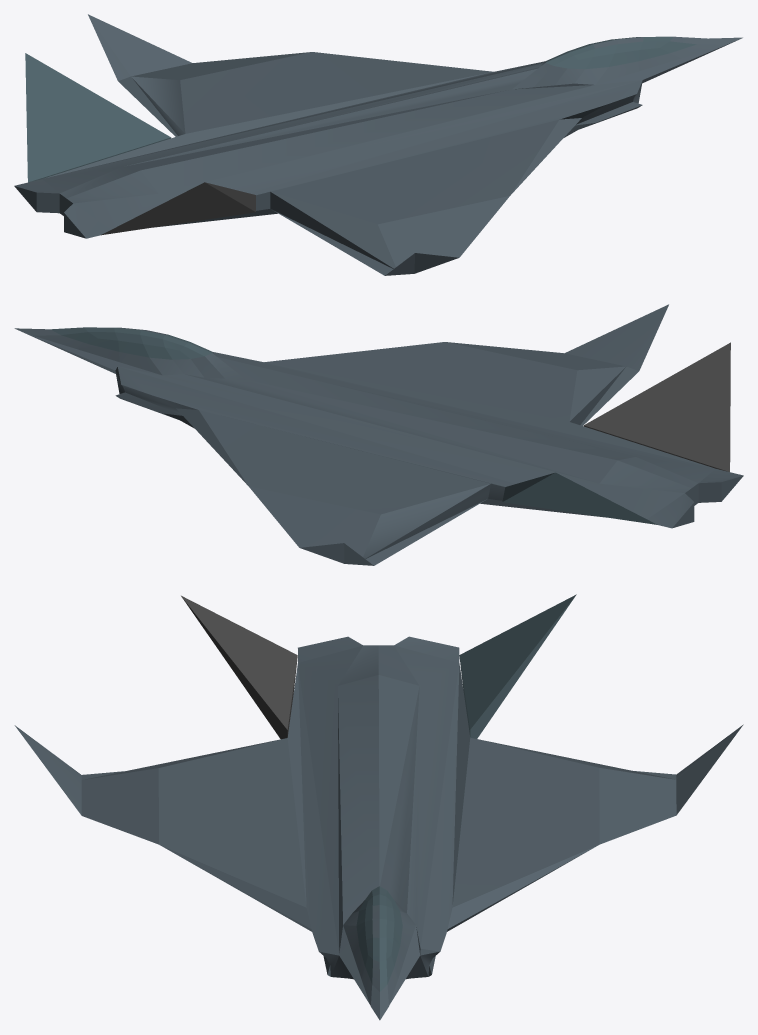
Rendered from Fleet_MR-140_Viper.FBX.
3 renders of one model, top to bottom at view 1: azimuth 30°, elevation 25°; view 2: azimuth 150°, elevation 25°; view 3: azimuth 270°, elevation 25°, orthographic. The views are drawn at different scales.
Visible parts, largest first — view 1: Cube, NoName1, NoName2; view 2: Cube, NoName2, NoName1; view 3: Cube, NoName1, NoName2.
Boxes of the visible parts, <box> form: Cube: <box>14,14,742,275</box>; NoName1: <box>25,53,171,182</box>; NoName2: <box>101,182,255,235</box>; Cube: <box>14,304,743,565</box>; NoName2: <box>583,342,730,471</box>; NoName1: <box>502,472,657,524</box>; Cube: <box>14,636,743,1020</box>; NoName1: <box>459,594,576,738</box>; NoName2: <box>181,595,297,739</box>.
Bounding box in the file's own units: 25.54 × 4.51 × 20.8.
